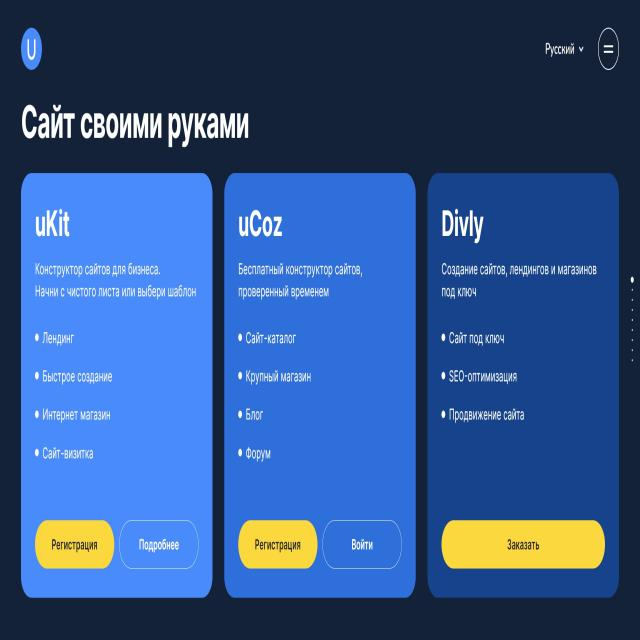menu-bar: (522, 13, 624, 77)
side-panel: (530, 18, 592, 70)
